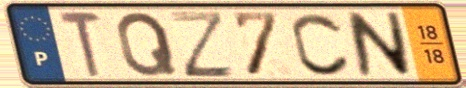7: (231, 10, 283, 79)
C: (289, 10, 354, 78)
N: (343, 10, 415, 78)
Q: (114, 10, 181, 79)
T: (55, 9, 106, 79)
Z: (166, 8, 238, 80)
